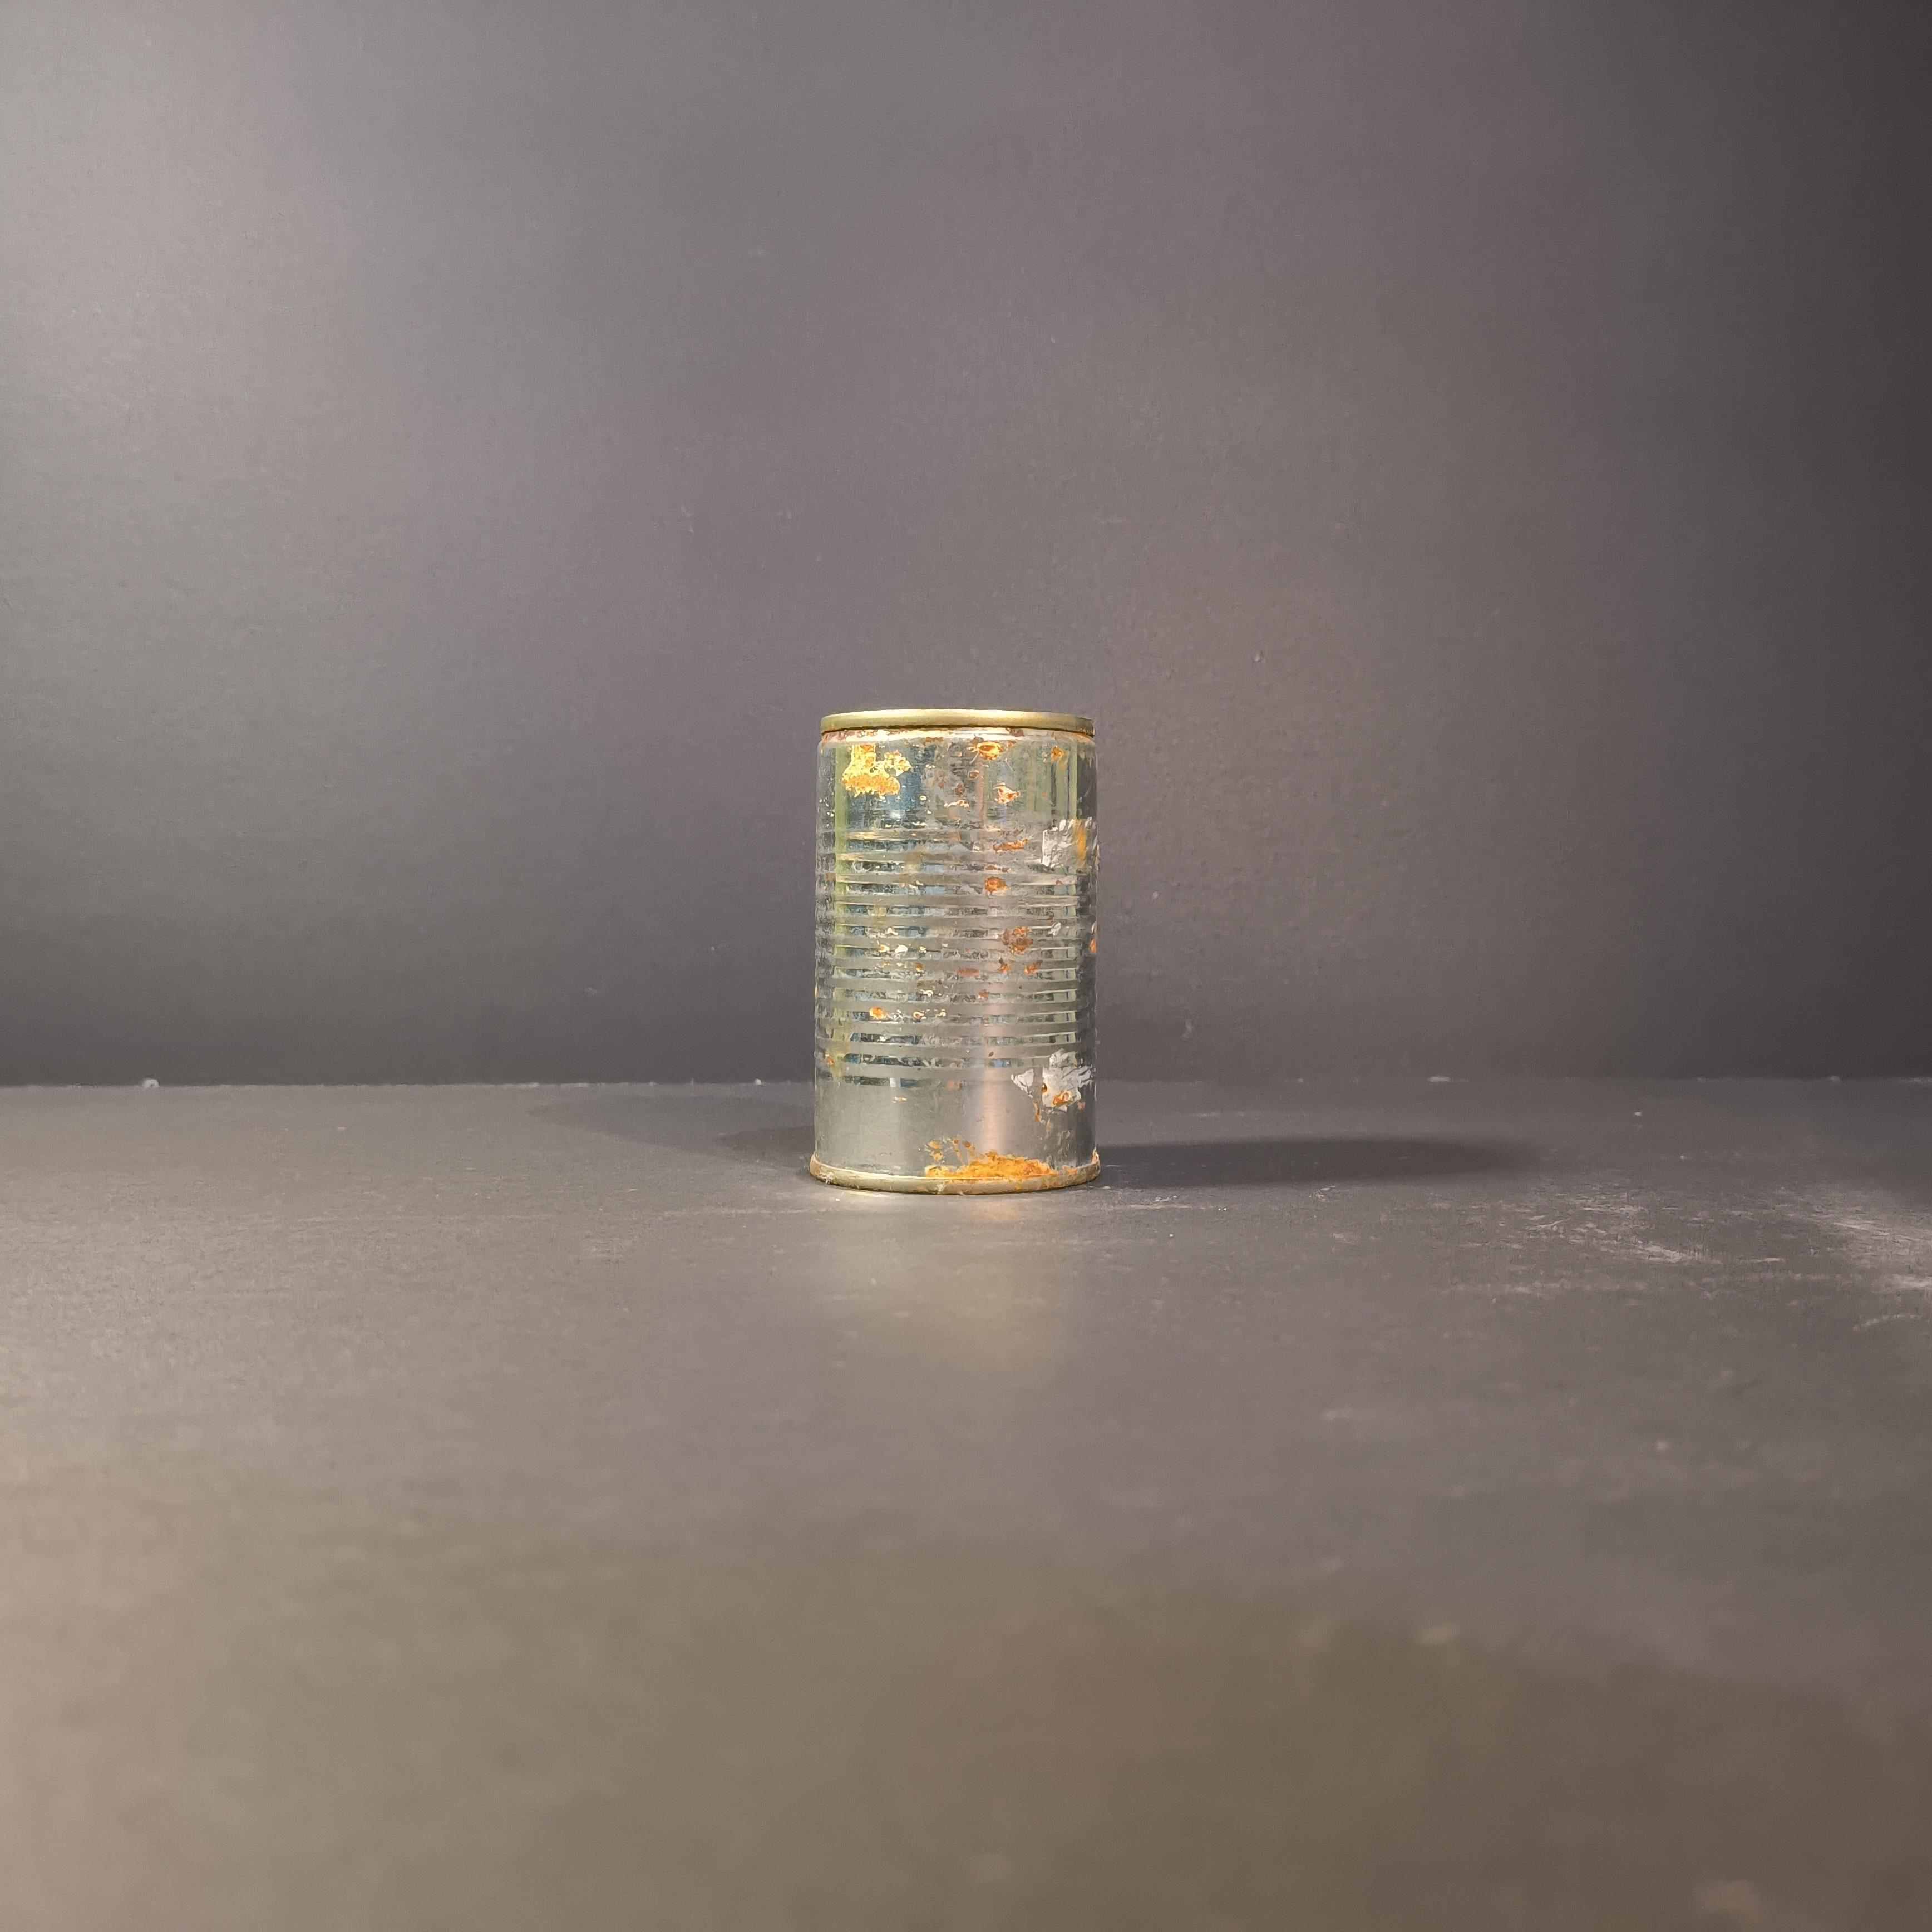Rusted: (791, 694, 1127, 1210)
